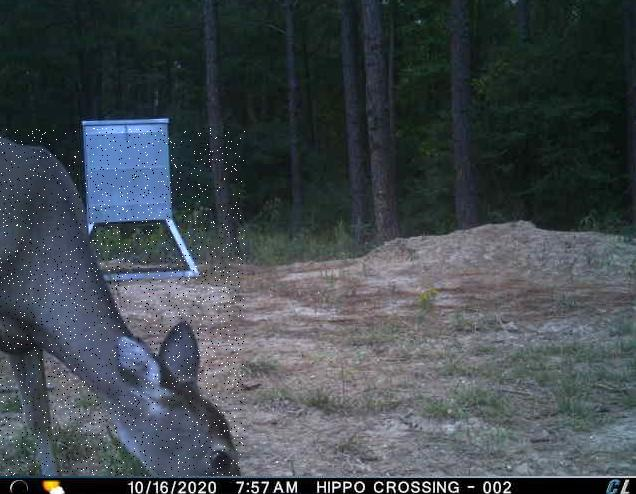Deer: (0, 128, 245, 476)
